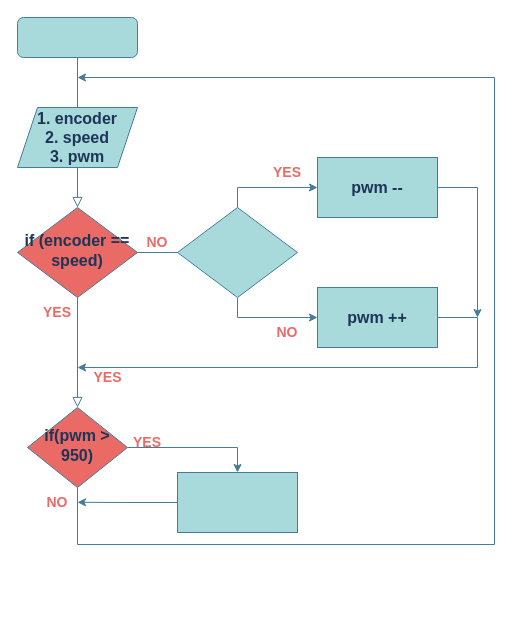
Image size: 520x628. Some labels were removed from this diagram. The centre of each missing label's shape, as x and y in pixels:
if (encoder > speed): (237,252)
pwm = 950: (237,502)
Thread start: (77,37)
